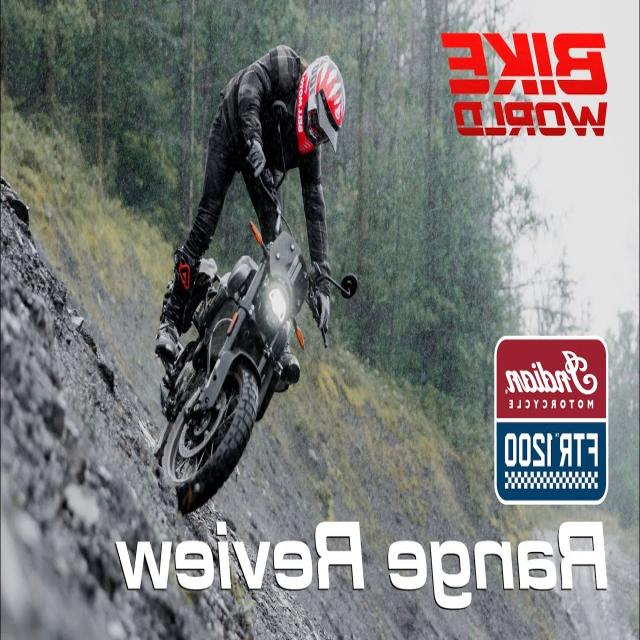motorcycle: (156, 47, 358, 512)
